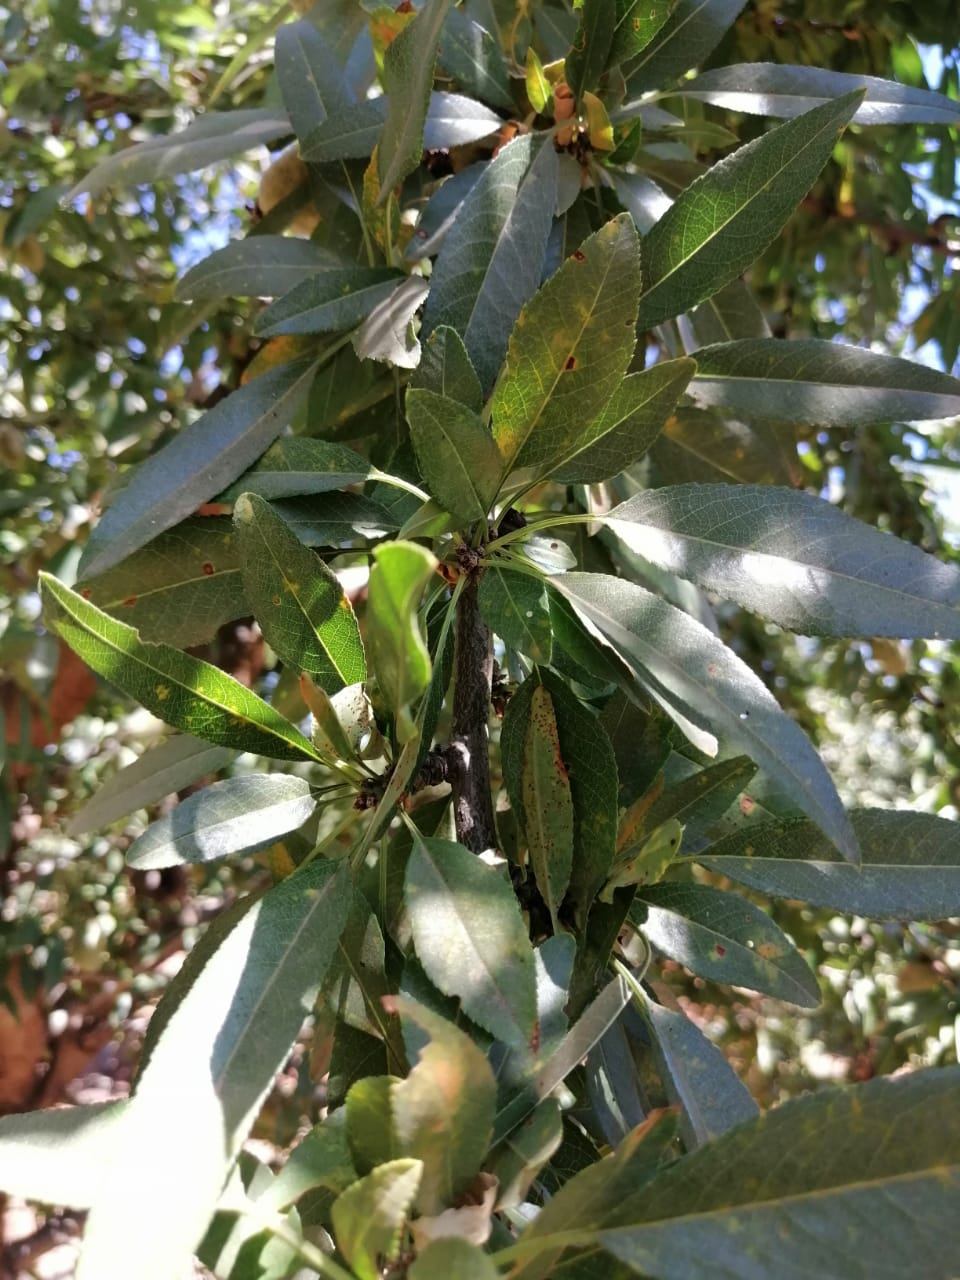rouille: (490, 207, 648, 475), (401, 830, 549, 1061), (226, 491, 379, 691), (63, 517, 245, 653), (519, 687, 578, 923)
